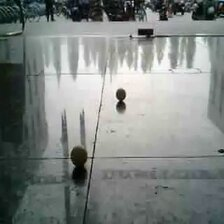w: (71, 145, 88, 166), (115, 88, 126, 102)
